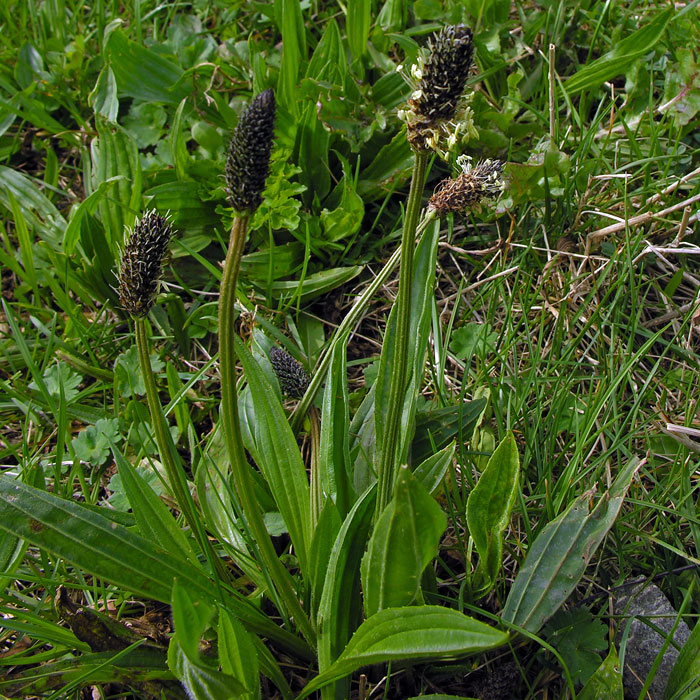buckhorn plantain: (116, 24, 526, 680)
